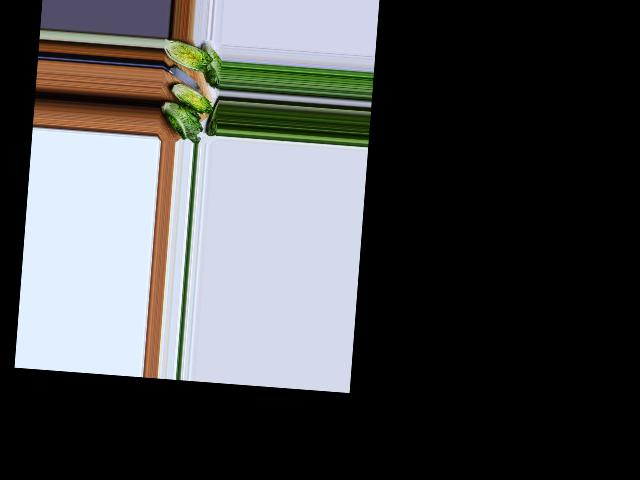lettuce: (199, 43, 221, 88)
